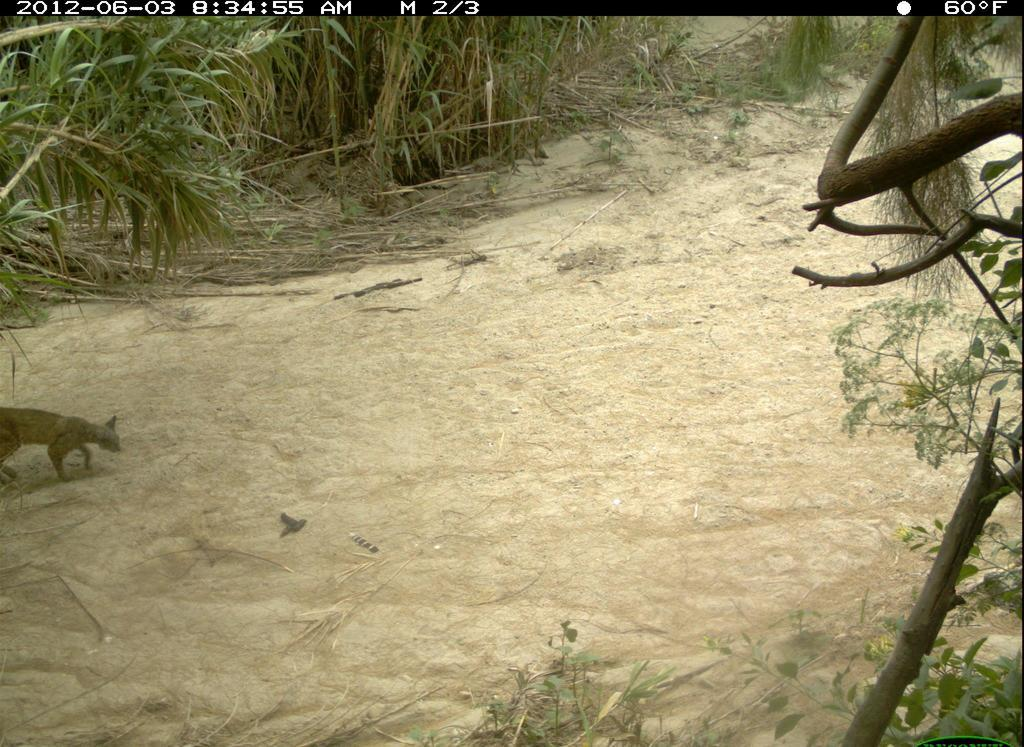bobcat: (2, 386, 137, 515)
